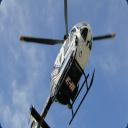helicopter: (21, 1, 119, 128)
